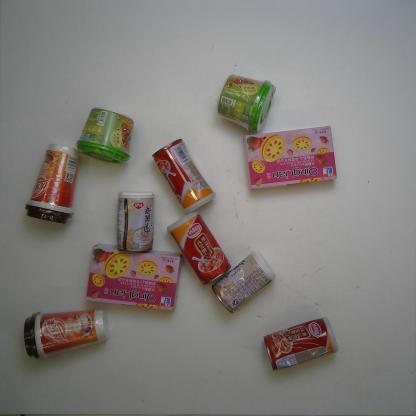Canned Food: (165, 209, 232, 286), (150, 137, 216, 214), (261, 316, 342, 372), (210, 249, 277, 314), (115, 189, 156, 253)
Dessert: (84, 242, 184, 311), (242, 125, 338, 190)
Instant Drink: (24, 141, 82, 226), (22, 308, 109, 362), (216, 74, 277, 134), (74, 106, 136, 165)
